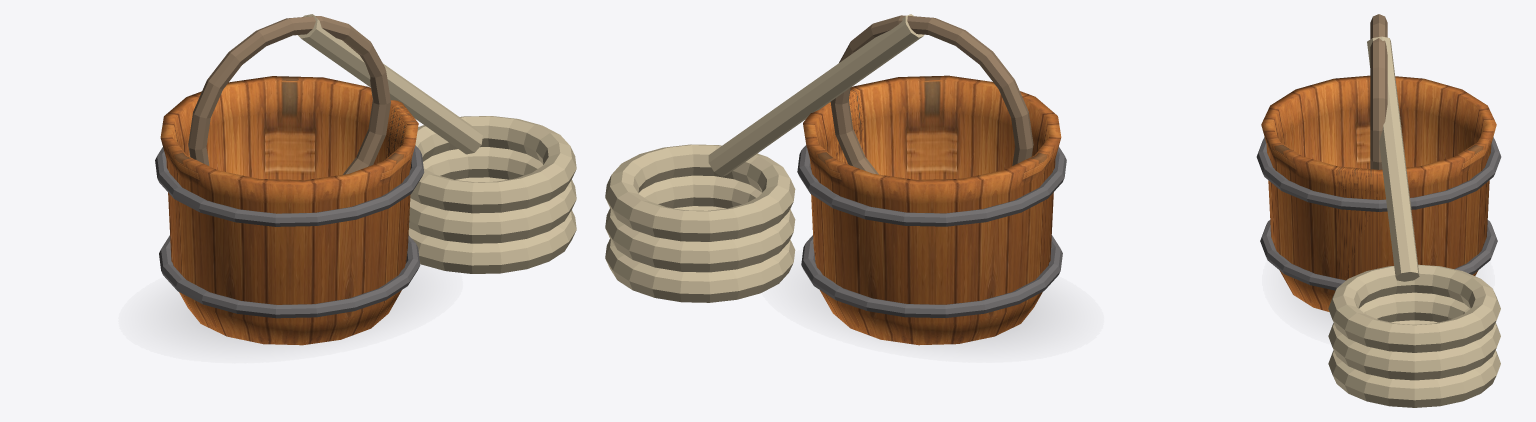
File: bucket-rope.glb
3 views of the same model, side by side, from view 1: azimuth 30°, elevation 25°; view 2: azimuth 150°, elevation 25°; view 3: azimuth 270°, elevation 25° (orthographic). The views are drawn at different scales.
Parts seen in each view (by area): view 1: bucket, coil, coil.002, handle, coil.001, ropefall, band, band.001; view 2: bucket, coil, coil.002, ropefall, handle, coil.001, band, band.001; view 3: bucket, coil, coil.002, coil.001, ropefall, band, handle, band.001.
Boxes of the visible parts, x1,y1,x2,y2 form: bucket: (160,76,418,345); coil: (410,116,576,213); coil.002: (409,147,576,243); handle: (188,16,390,174); coil.001: (408,177,576,273); ropefall: (298,14,482,154); band: (155,145,424,226); band.001: (159,235,420,318); bucket: (803,75,1061,345); coil: (605,144,795,241); coil.002: (605,175,795,272); ropefall: (708,14,924,176); handle: (830,15,1033,174); coil.001: (605,206,795,302); band: (797,145,1066,226); band.001: (801,235,1062,317); bucket: (1261,75,1496,311); coil: (1328,264,1500,352); coil.002: (1328,292,1500,380); coil.001: (1328,320,1500,407); ropefall: (1367,36,1419,281); band: (1256,137,1501,211); handle: (1370,14,1387,169); band.001: (1260,220,1497,290).
Size of the model in its own units: 1.44 by 0.806 by 0.8.
Materials: 5 (2 with a texture image).
